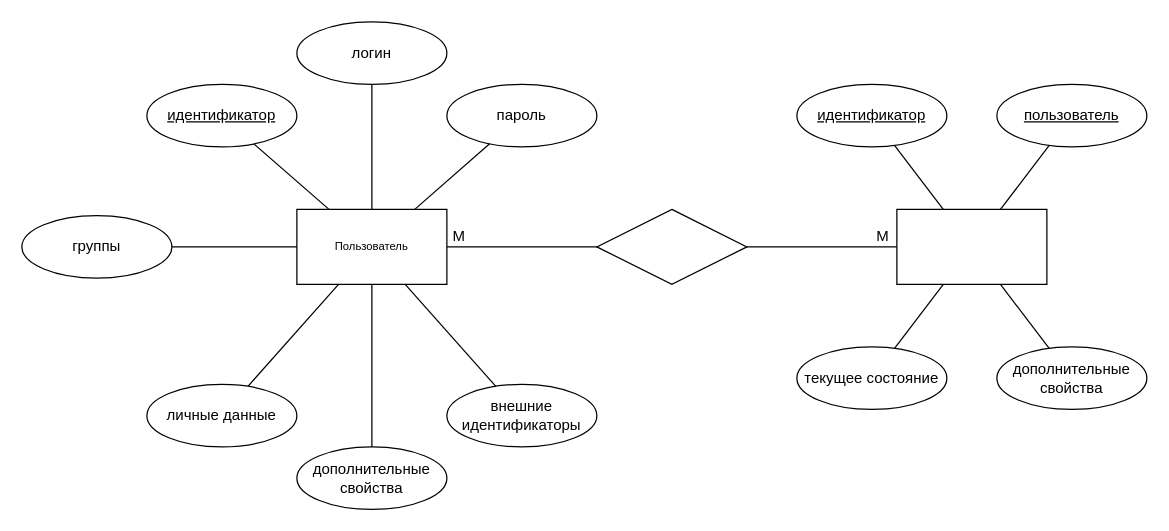
Image size: 1169x531. Some labels were removed from this diagram. The shapes that lost their labels are listed below. From the top down, each one's box as (x1, y1, x2, y2) in pixels, then its label:
(596, 208, 747, 284): должен присутствовать
(896, 208, 1047, 284): Контекст диалога
